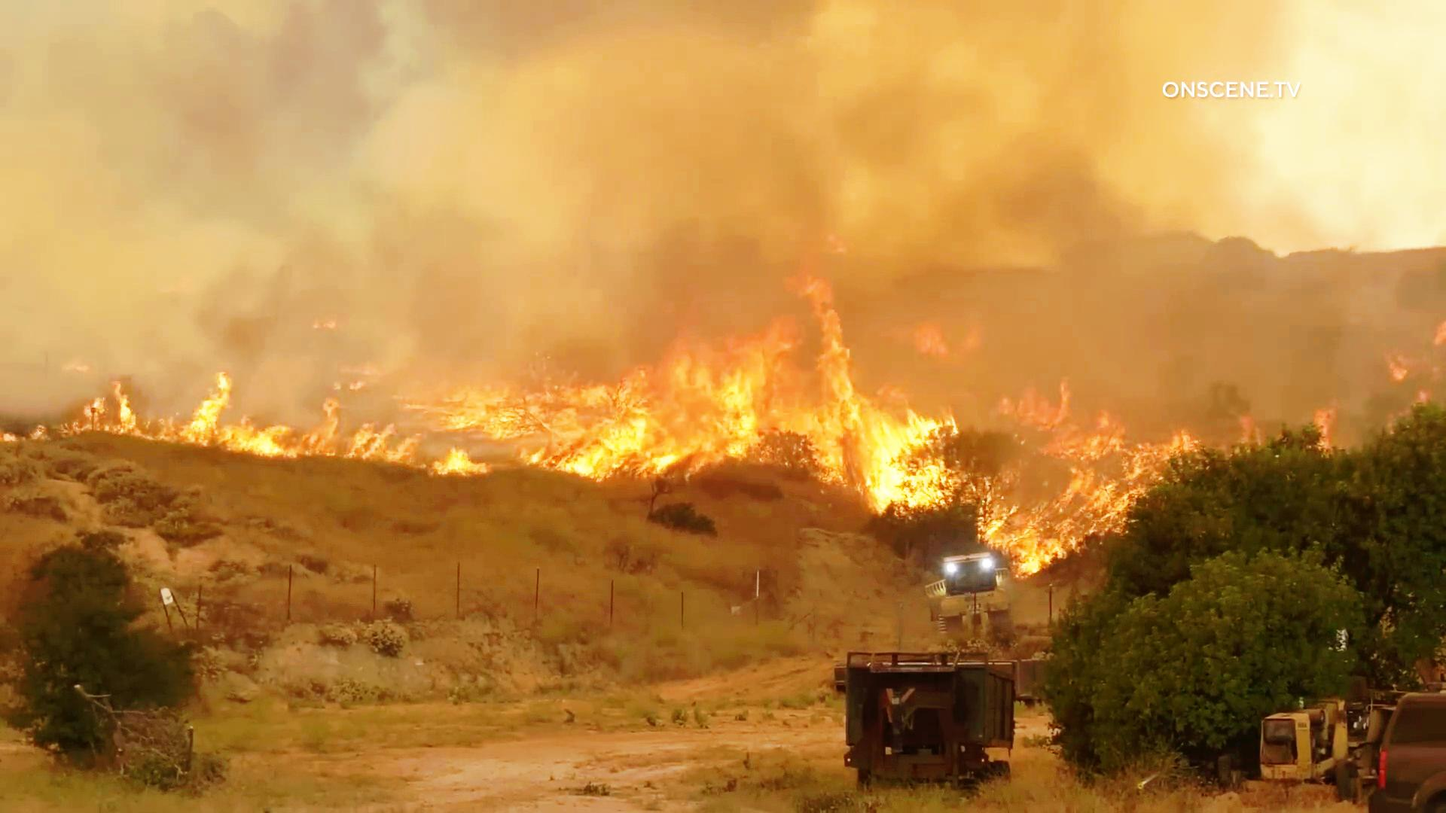fire: (503, 15, 1096, 244), (448, 260, 853, 475), (91, 373, 460, 472), (878, 405, 959, 512)
